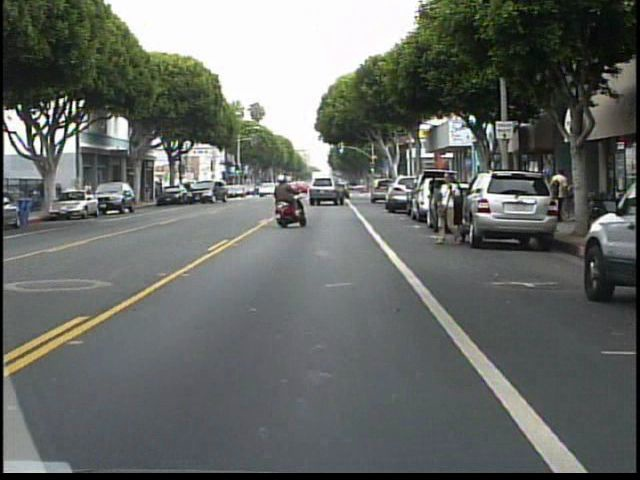person: (267, 170, 308, 230), (433, 167, 461, 247), (551, 165, 569, 210)
